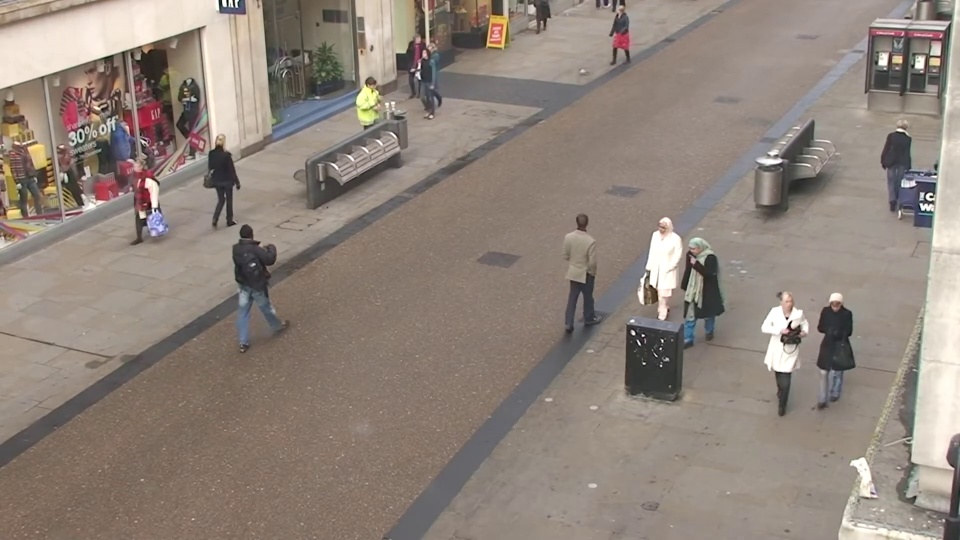pedestrian: (802, 291, 856, 434), (757, 287, 809, 428), (238, 213, 284, 333), (667, 235, 710, 363), (641, 216, 681, 340), (113, 153, 158, 256), (569, 207, 607, 328), (876, 112, 919, 210), (212, 126, 250, 222), (358, 75, 389, 158), (408, 49, 436, 126), (416, 42, 443, 116), (400, 34, 427, 107), (606, 4, 628, 68)
